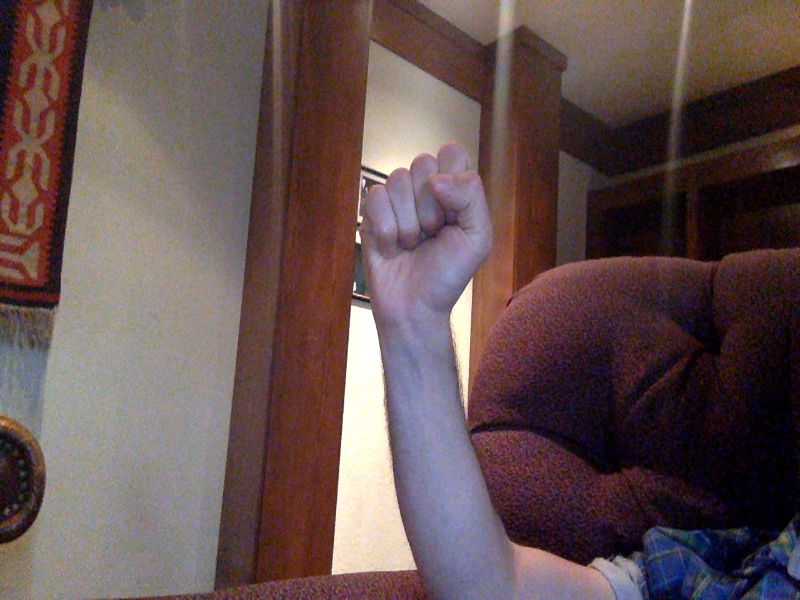0-hand: (356, 143, 494, 323)
